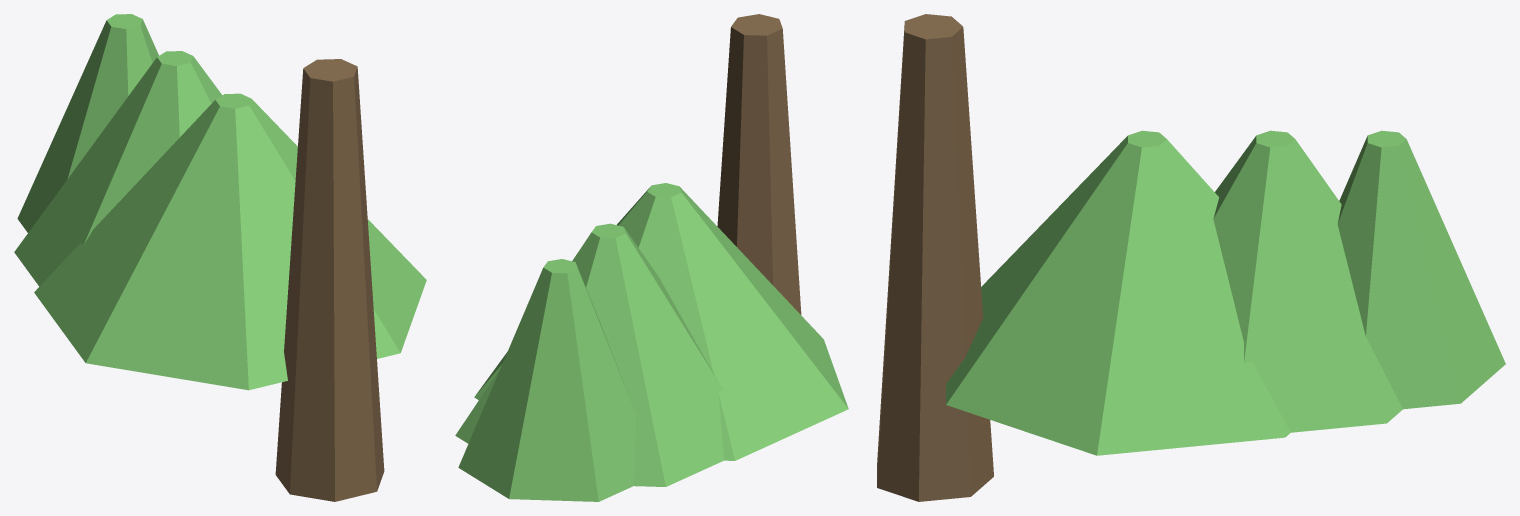
The model's file is drk_tree.fbx.
3 views of the same model, side by side, from view 1: azimuth 30°, elevation 25°; view 2: azimuth 150°, elevation 25°; view 3: azimuth 270°, elevation 25° (orthographic). The views are drawn at different scales.
Parts seen in each view (by area): view 1: GEO-tree_crown, GEO-tree_trunk, GEO-tree_crown.001, GEO-tree_crown.002; view 2: GEO-tree_crown.002, GEO-tree_crown, GEO-tree_crown.001, GEO-tree_trunk; view 3: GEO-tree_crown, GEO-tree_trunk, GEO-tree_crown.001, GEO-tree_crown.002.
Boxes of the visible parts, x1,y1,x2,y2 form: GEO-tree_crown: (34,93,426,390); GEO-tree_trunk: (275,59,384,501); GEO-tree_crown.001: (14,51,222,286); GEO-tree_crown.002: (17,14,158,232); GEO-tree_crown.002: (458,259,636,501); GEO-tree_crown: (474,183,848,460); GEO-tree_crown.001: (455,223,723,486); GEO-tree_trunk: (717,14,801,314); GEO-tree_crown: (946,130,1290,455); GEO-tree_trunk: (877,14,993,501); GEO-tree_crown.001: (1213,130,1402,432); GEO-tree_crown.002: (1337,130,1505,409).
Size of the model in its own units: 253 by 290 by 367.
